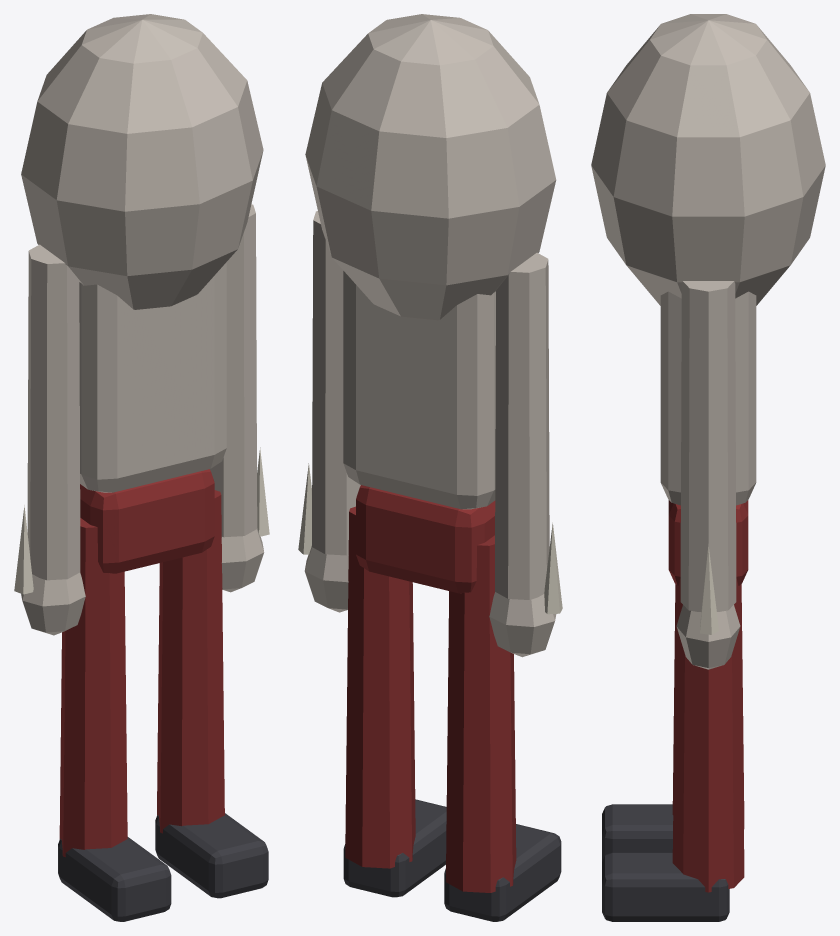
Rendered from mutant_screamer.glb.
3 renders of one model, left to right at view 1: azimuth 30°, elevation 25°; view 2: azimuth 150°, elevation 25°; view 3: azimuth 270°, elevation 25°, orthographic. The views are drawn at different scales.
Visible parts, largest first — view 1: mut_screamer_head, mut_screamer_torso, mut_screamer_leg_r, mut_screamer_leg_l, mut_screamer_arm_l, mut_screamer_pelvis, mut_screamer_arm_r, mut_screamer_foot_l, mut_screamer_foot_r, mut_screamer_hand_l, mut_screamer_hand_r, mut_screamer_claw_l (+1 smaller); view 2: mut_screamer_head, mut_screamer_torso, mut_screamer_leg_r, mut_screamer_leg_l, mut_screamer_arm_l, mut_screamer_pelvis, mut_screamer_arm_r, mut_screamer_foot_l, mut_screamer_foot_r, mut_screamer_hand_l, mut_screamer_hand_r, mut_screamer_claw_l (+1 smaller); view 3: mut_screamer_head, mut_screamer_arm_r, mut_screamer_leg_r, mut_screamer_torso, mut_screamer_foot_r, mut_screamer_foot_l, mut_screamer_hand_r, mut_screamer_pelvis, mut_screamer_claw_r, mut_screamer_leg_l.
Boxes of the visible parts, x1,y1,x2,y2 form: mut_screamer_head: (21,14,263,309); mut_screamer_torso: (79,262,226,492); mut_screamer_leg_r: (157,490,224,833); mut_screamer_leg_l: (59,518,127,857); mut_screamer_arm_l: (27,244,80,580); mut_screamer_pelvis: (80,469,214,573); mut_screamer_arm_r: (210,204,257,537); mut_screamer_foot_l: (58,837,171,921); mut_screamer_foot_r: (155,813,268,898); mut_screamer_hand_l: (21,572,85,635); mut_screamer_hand_r: (221,528,264,592); mut_screamer_claw_l: (14,505,33,594); mut_screamer_head: (305,14,556,320); mut_screamer_torso: (343,271,495,509); mut_screamer_leg_r: (345,506,415,868); mut_screamer_leg_l: (446,535,516,892); mut_screamer_arm_l: (495,252,549,599); mut_screamer_pelvis: (356,485,495,593); mut_screamer_arm_r: (312,211,360,555); mut_screamer_foot_l: (444,824,561,921); mut_screamer_foot_r: (343,799,446,897); mut_screamer_hand_l: (489,592,556,657); mut_screamer_hand_r: (304,546,348,612); mut_screamer_claw_l: (544,522,562,614); mut_screamer_head: (591,14,825,305); mut_screamer_arm_r: (680,281,736,611); mut_screamer_leg_r: (672,577,744,892); mut_screamer_torso: (660,291,756,505); mut_screamer_foot_r: (602,852,729,921); mut_screamer_foot_l: (602,804,673,861); mut_screamer_hand_r: (676,605,740,669); mut_screamer_pelvis: (668,500,748,585); mut_screamer_claw_r: (700,544,718,634); mut_screamer_leg_l: (672,584,744,828).
Bounding box in the file's own units: 0.558 × 1.79 × 0.44.
